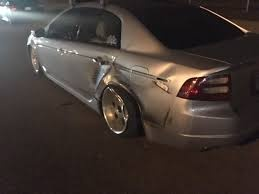Dent: (85, 57, 182, 128)
